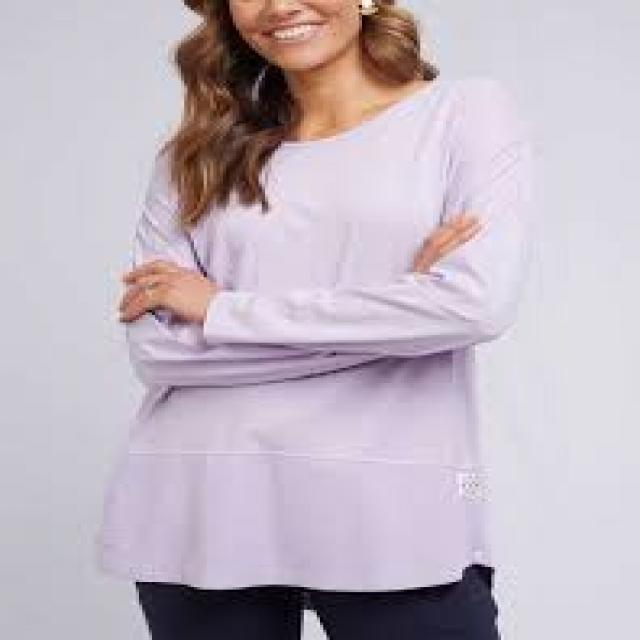plain: (29, 92, 591, 567)
